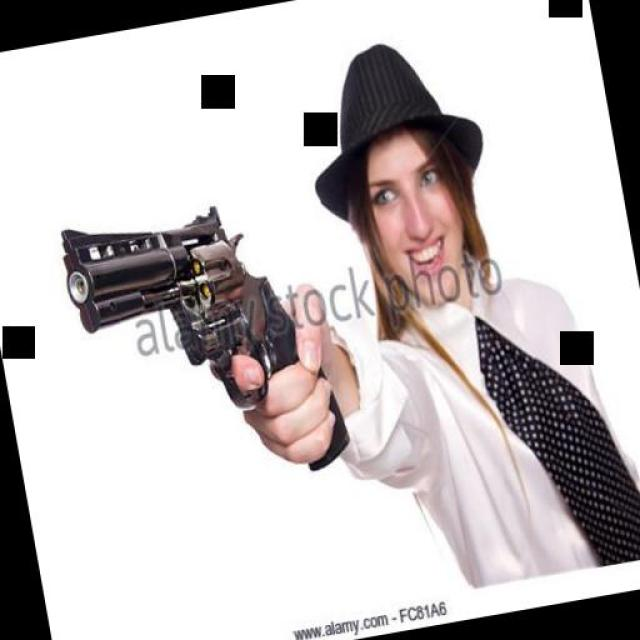gun: (50, 178, 352, 508)
